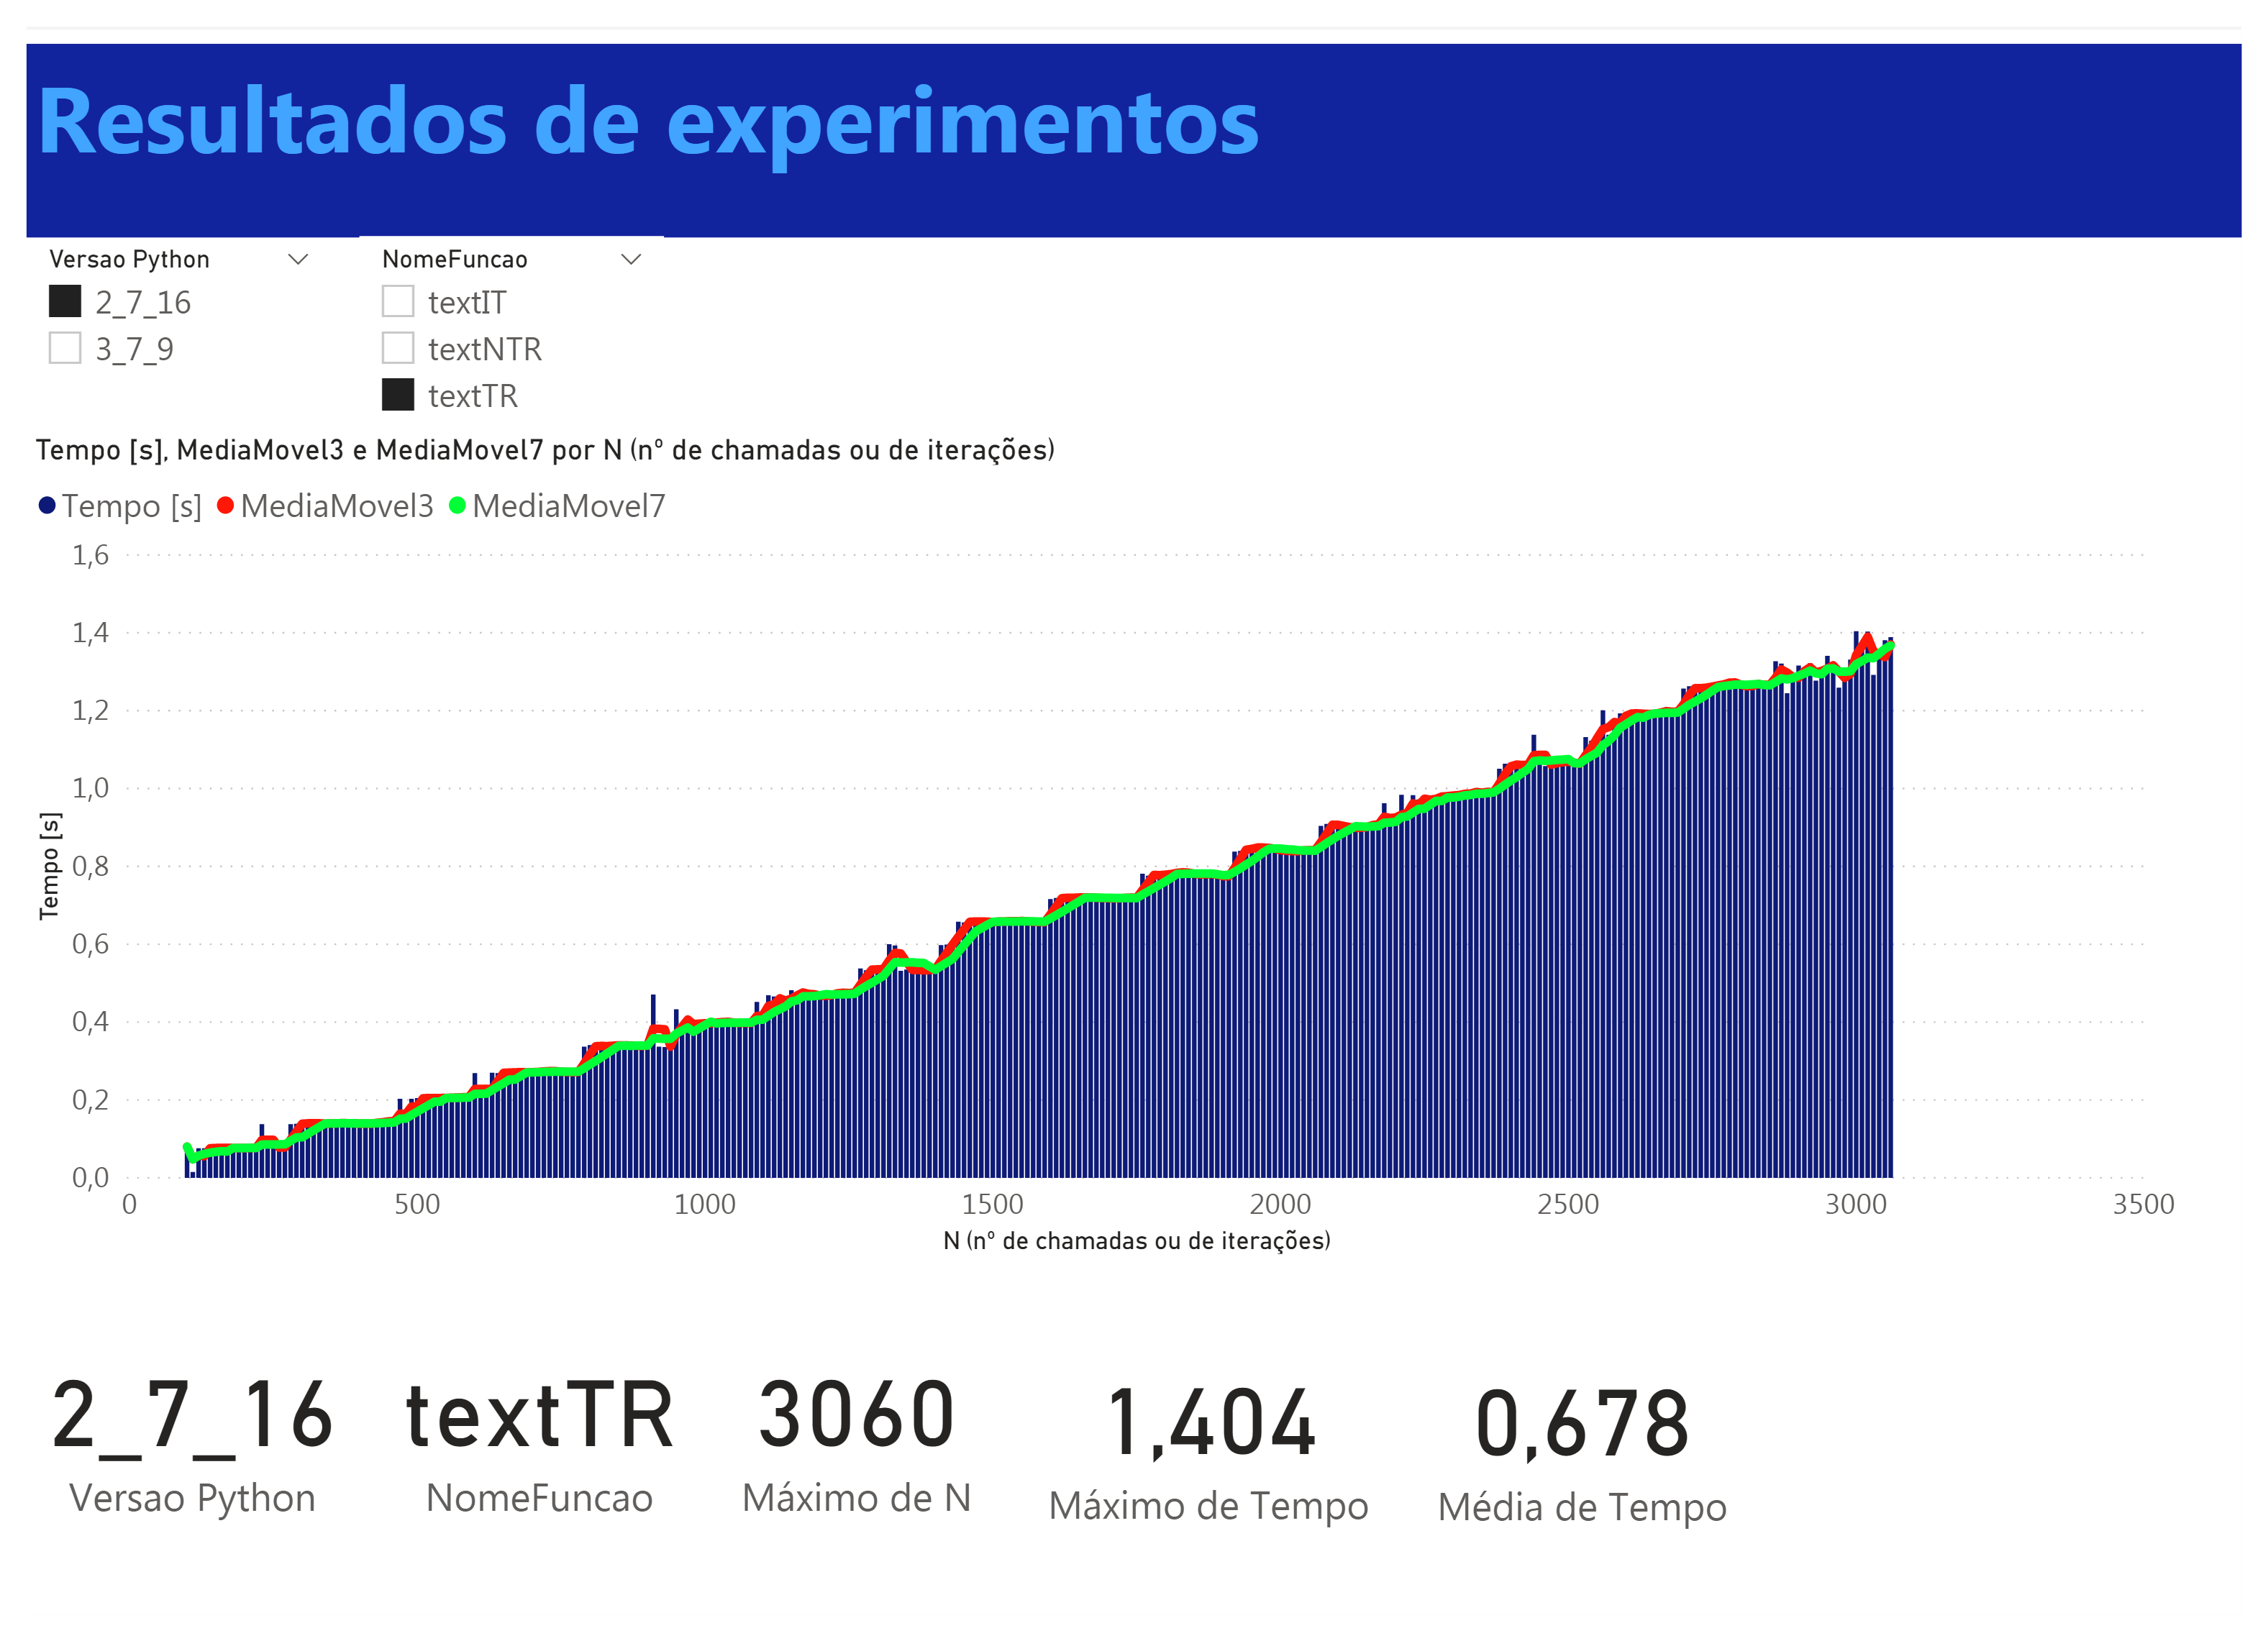

What the dashboard file says about the page in this screenshot:
{"tool":"powerbi","page":{"name":"Texto","canvas":[1280,900],"ordinal":6},"visuals":[{"type":"card","fields":{"Values":["Max(Tabela1.Tempo)"]},"box":[576,744,216,120],"z":0},{"type":"card","fields":{"Values":["Min(Tabela1.NomeFuncao)"]},"box":[192,704,208,192],"z":1000},{"type":"card","fields":{"Values":["Max(Tabela1.N)"]},"box":[400,704,160,192],"z":2000},{"type":"card","fields":{"Values":["Avg(Tabela1.Tempo)"]},"box":[792,720,216,168],"z":3000},{"type":"slicer","fields":{"Values":["Tabela1.Versao Python"]},"box":[0,112,176,112],"z":4000},{"type":"card","fields":{"Values":["Min(Tabela1.Versao Python)"]},"box":[0,704,192,192],"z":5000},{"type":"textbox","box":[0,0,1280,112],"z":6000},{"type":"slicer","fields":{"Values":["Tabela1.NomeFuncao"]},"box":[192,112,176,112],"z":7000},{"type":"lineClusteredColumnComboChart","fields":{"Y":["Sum(Tabela1.Tempo)"],"Category":["Tabela1.N"],"Y2":["Tabela1.MediaMovel3","Tabela1.MediaMovel7"]},"box":[0,224,1248,480],"z":8000}]}

Visuals, with their boxes in screenshot pixels (x1, y1, x2, y2), scaled from the page's 1280x900 canvas onto the 2268x1641 screenshot:
card - Max(Tabela1.Tempo): [1021,1356,1403,1576]
card - Min(Tabela1.NomeFuncao): [340,1284,709,1634]
card - Max(Tabela1.N): [709,1284,992,1634]
card - Avg(Tabela1.Tempo): [1403,1313,1786,1619]
slicer - Tabela1.Versao Python: [0,204,312,408]
card - Min(Tabela1.Versao Python): [0,1284,340,1634]
textbox: [0,0,2267,204]
slicer - Tabela1.NomeFuncao: [340,204,652,408]
lineClusteredColumnComboChart - Sum(Tabela1.Tempo) x Tabela1.N: [0,408,2211,1284]
